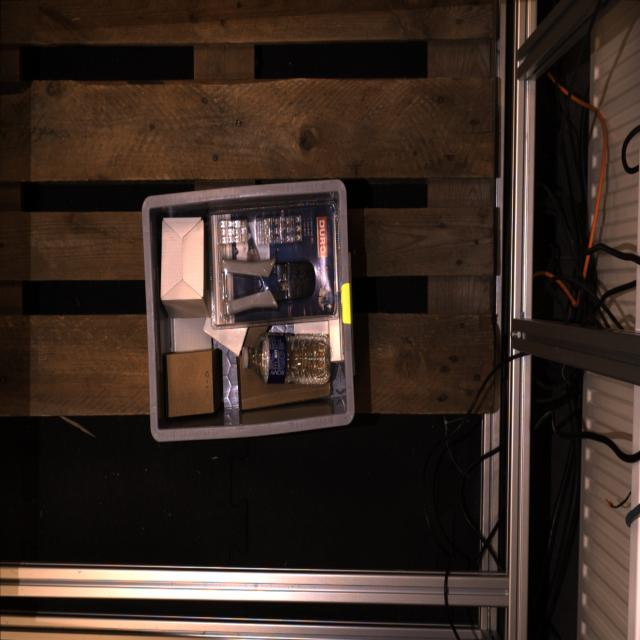Bottle: (242, 332, 330, 384)
CardboardBox: (161, 214, 210, 319), (238, 357, 330, 410), (166, 349, 221, 418), (294, 319, 341, 361), (203, 317, 248, 356), (171, 318, 214, 353), (244, 324, 272, 348)
ItemPackaging: (208, 196, 341, 329)
